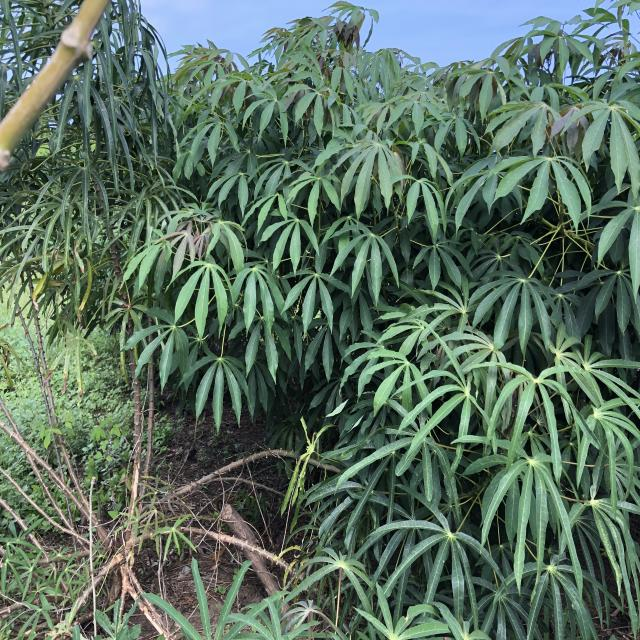Mosca: (560, 433, 578, 448), (278, 89, 293, 102), (363, 485, 379, 497), (257, 332, 267, 351)
